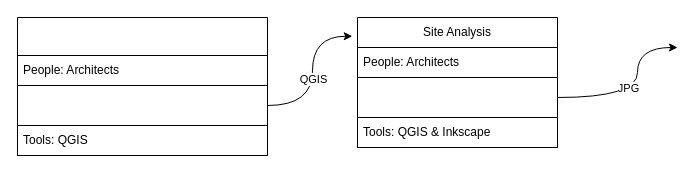
Some shapes in this 694 by 173 pixel diagram are drawn without their labels. The shapes that lost their labels are listed below. From the top down, each one's box as (x1, y1, x2, y2) in pixels, then its label:
(16, 16, 268, 156): Create Base Site Maps
(16, 84, 268, 126): Processes: Gather maps and understand the existing site condition
(356, 76, 558, 118): Processes: perform figure ground analysis of the site maps
